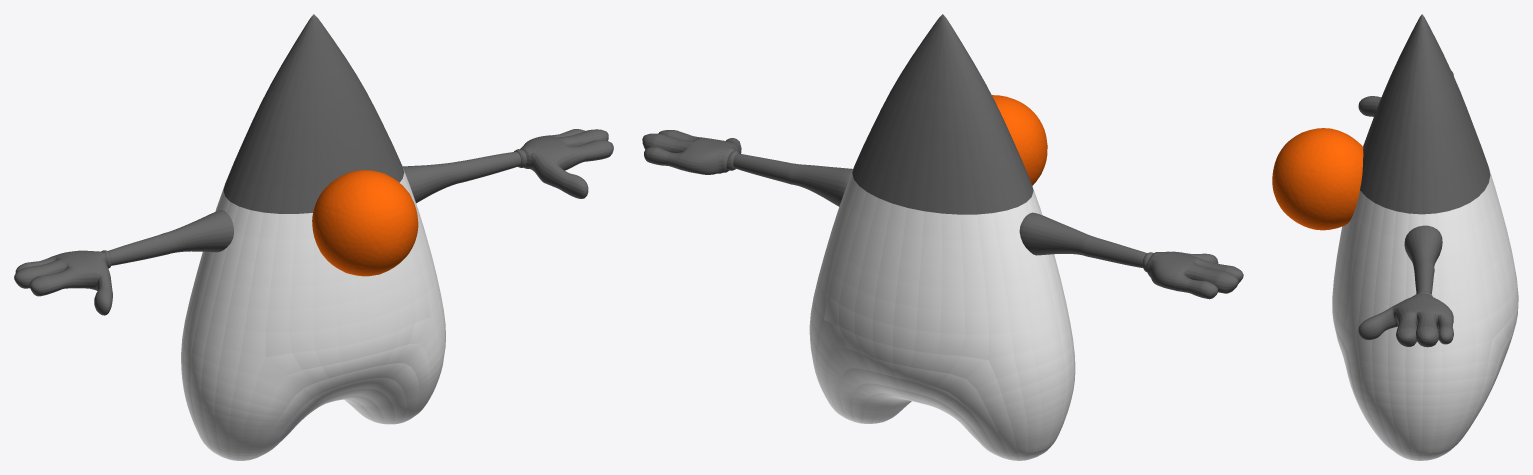
The model's file is duke-with-bones-without-plane.glb.
3 renders of one model, left to right at view 1: azimuth 30°, elevation 25°; view 2: azimuth 150°, elevation 25°; view 3: azimuth 270°, elevation 25°, orthographic. The views are drawn at different scales.
Parts seen in each view (by area): view 1: Lower Body, Upper Body, duke_C_nose_geo, duke_L_hand_geo, R Hand, duke_R_arm_geo, duke_L_arm_geo; view 2: Lower Body, Upper Body, R Hand, duke_L_hand_geo, duke_R_arm_geo, duke_L_arm_geo, duke_C_nose_geo; view 3: Lower Body, Upper Body, duke_C_nose_geo, duke_L_hand_geo, duke_L_arm_geo, R Hand.
Part boxes in pixels (x1,y1,x2,y2): Lower Body: (181,168,445,460); Upper Body: (223,14,404,213); duke_C_nose_geo: (312,170,418,276); duke_L_hand_geo: (514,129,613,198); R Hand: (14,250,112,315); duke_R_arm_geo: (108,210,233,265); duke_L_arm_geo: (402,151,521,203); Lower Body: (809,169,1075,460); Upper Body: (852,14,1033,214); R Hand: (1142,251,1243,299); duke_L_hand_geo: (642,130,741,174); duke_R_arm_geo: (1019,212,1146,267); duke_L_arm_geo: (733,153,852,206); duke_C_nose_geo: (992,95,1047,185); Lower Body: (1332,169,1518,460); Upper Body: (1360,14,1490,214); duke_C_nose_geo: (1272,128,1363,230); duke_L_hand_geo: (1358,291,1453,347); duke_L_arm_geo: (1404,225,1442,293); R Hand: (1358,70,1453,116).
Size of the model in its own units: 1 by 0.6808 by 0.3742.
